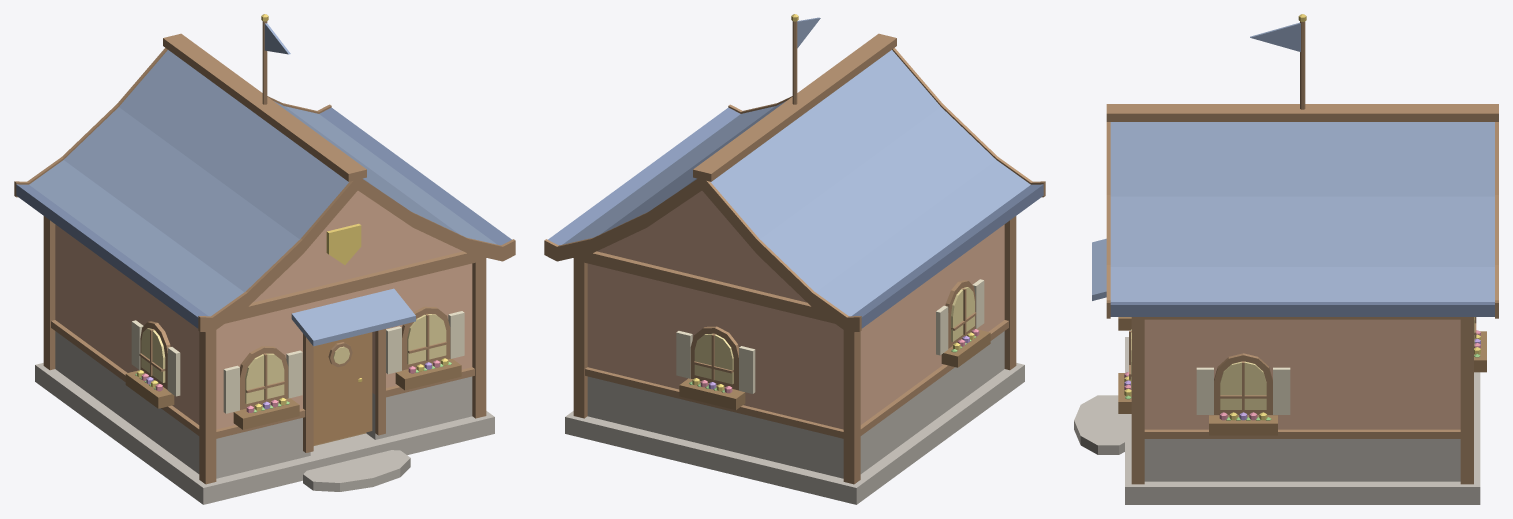
The model's file is hall_brick.glb.
3 renders of one model, left to right at view 1: azimuth 30°, elevation 25°; view 2: azimuth 150°, elevation 25°; view 3: azimuth 270°, elevation 25°, orthographic. The views are drawn at different scales.
Parts seen in each view (by area): view 1: Player; view 2: Player; view 3: Player.
Boxes of the visible parts, left/top/right/bottom form: Player: left=14, top=14, right=515, bottom=504; Player: left=544, top=14, right=1045, bottom=504; Player: left=1074, top=14, right=1498, bottom=504.
Size of the model in its own units: 5.84 by 6.97 by 6.45.
